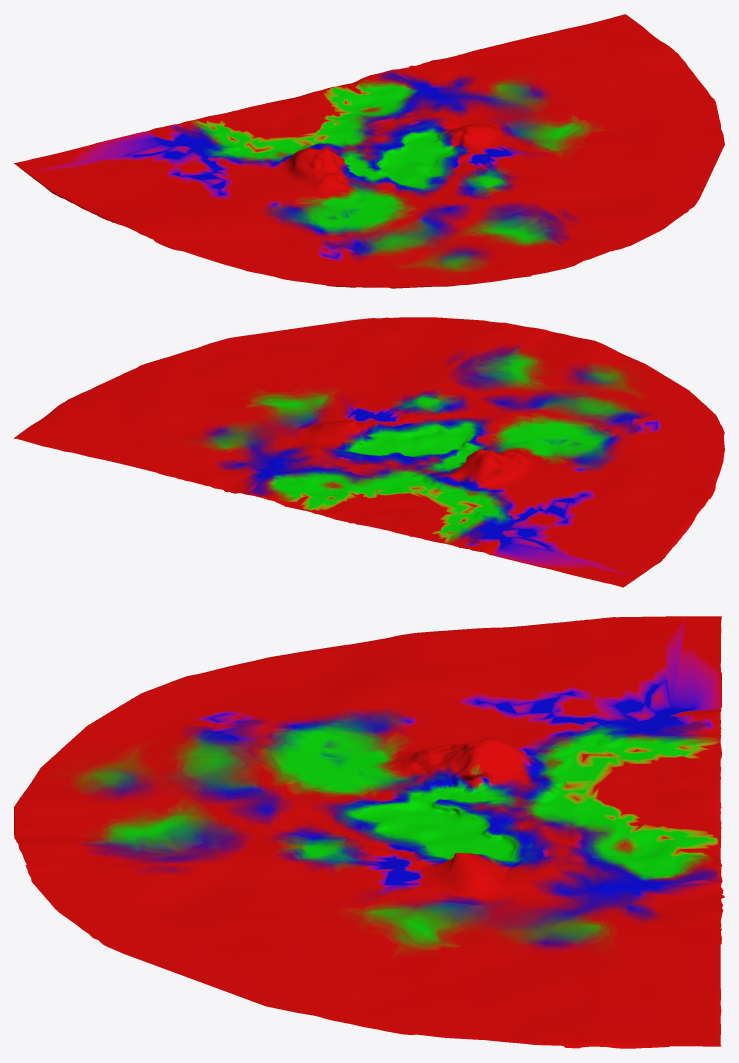
Rendered from Landscape_01.fbx.
3 renders of one model, top to bottom at view 1: azimuth 30°, elevation 25°; view 2: azimuth 150°, elevation 25°; view 3: azimuth 270°, elevation 25°, orthographic. The views are drawn at different scales.
Visible parts, largest first — view 1: Landscape_01_Low2:Group52283; view 2: Landscape_01_Low2:Group52283; view 3: Landscape_01_Low2:Group52283.
Part boxes in pixels (x1,y1,x2,y2): Landscape_01_Low2:Group52283: (14,14,724,288); Landscape_01_Low2:Group52283: (14,317,724,587); Landscape_01_Low2:Group52283: (14,616,724,1048).
Size of the model in its own units: 144 by 5.41 by 100.
